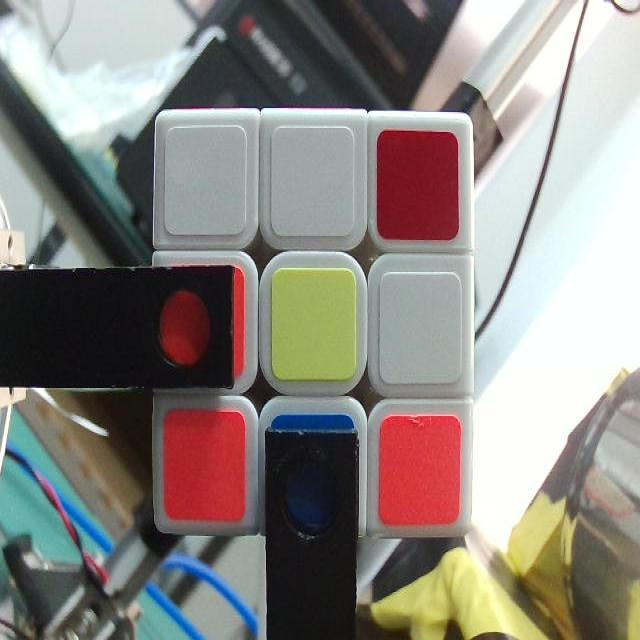b: (278, 420, 358, 525)
o: (161, 265, 244, 380), (166, 407, 245, 517), (381, 420, 461, 524)
r: (379, 128, 458, 237)
w: (381, 272, 462, 383), (274, 130, 353, 233), (168, 129, 244, 232)
y: (274, 272, 356, 376)
